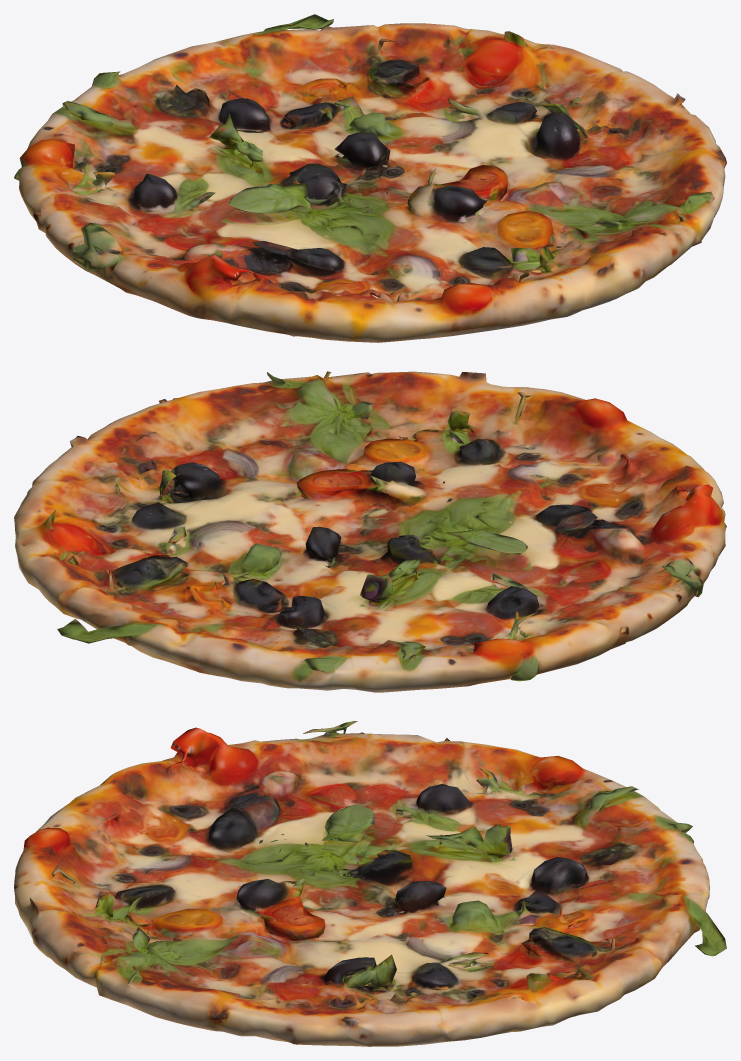
File: pizza-meshy.glb
3 views of the same model, one above another, from view 1: azimuth 30°, elevation 25°; view 2: azimuth 150°, elevation 25°; view 3: azimuth 270°, elevation 25° (orthographic).
Bounding box in the file's own units: 1.97 × 0.207 × 2.
1 material, 1 textured.
